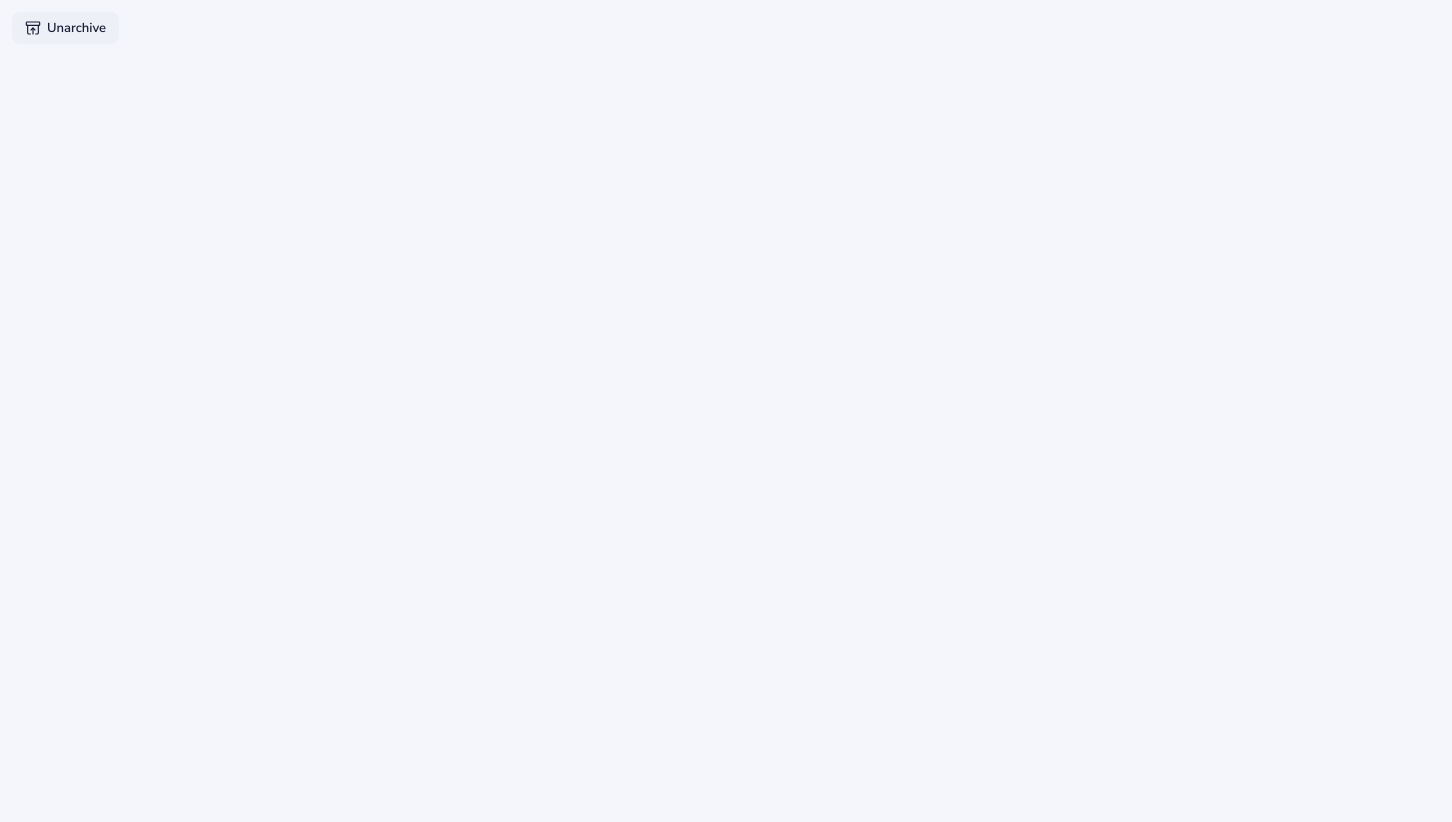
DriverActions › an archived driver › does not claim success when the API refuses
Click the button "Unarchive" at (66, 28), box [12,12,119,44]
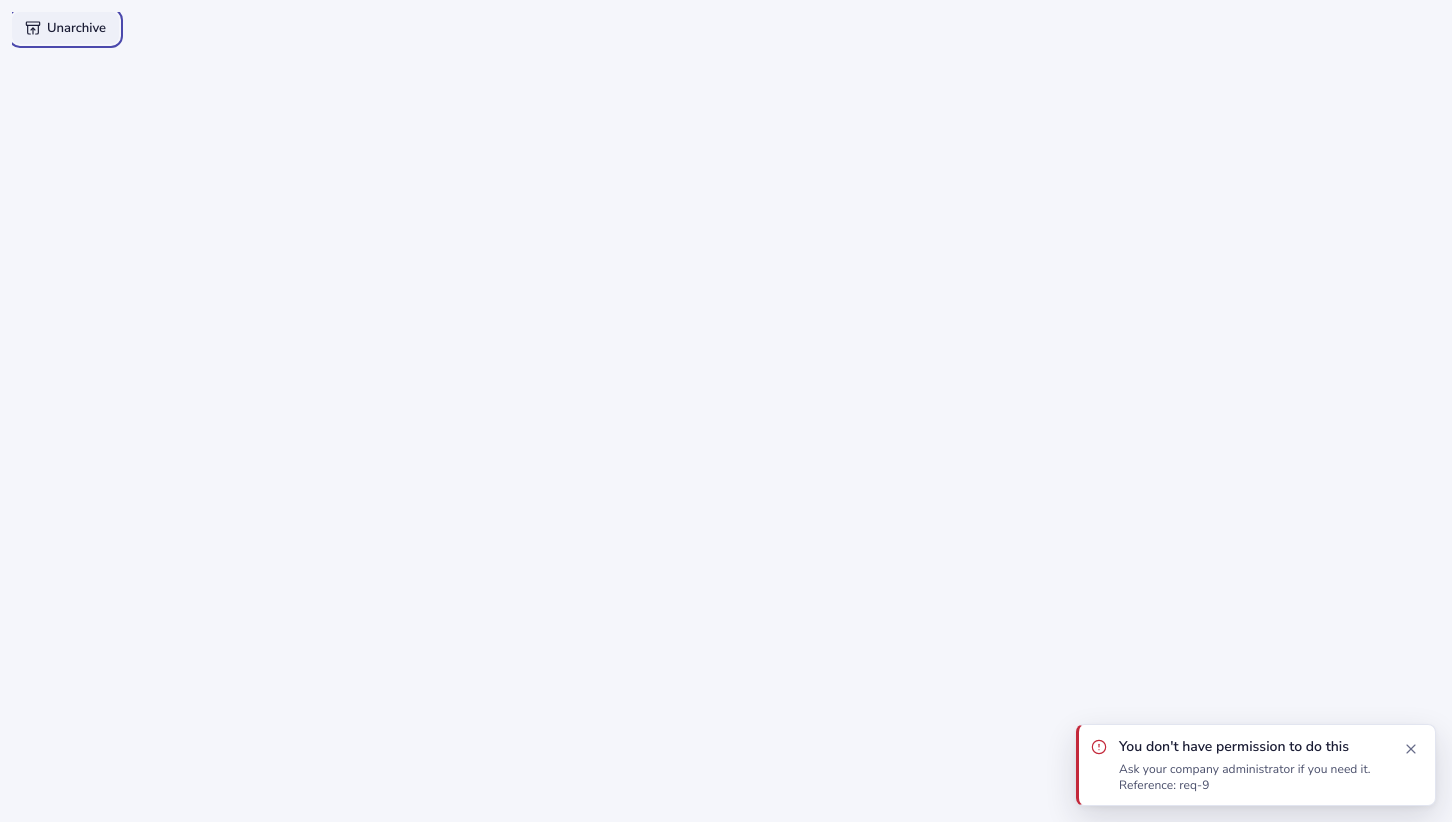
Expected: the text "You don't have permission to do this" is shown, [1119,737,1387,757]
